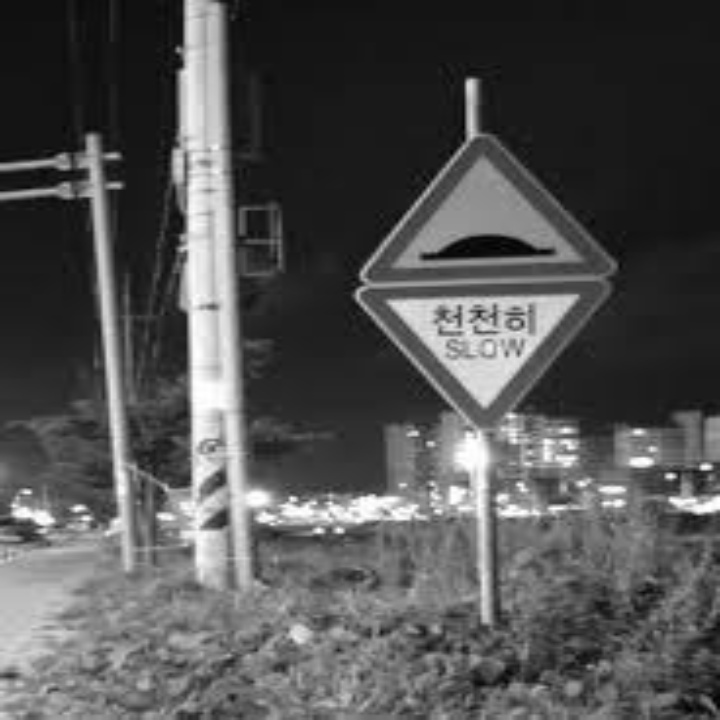bump: (411, 224, 578, 269)
